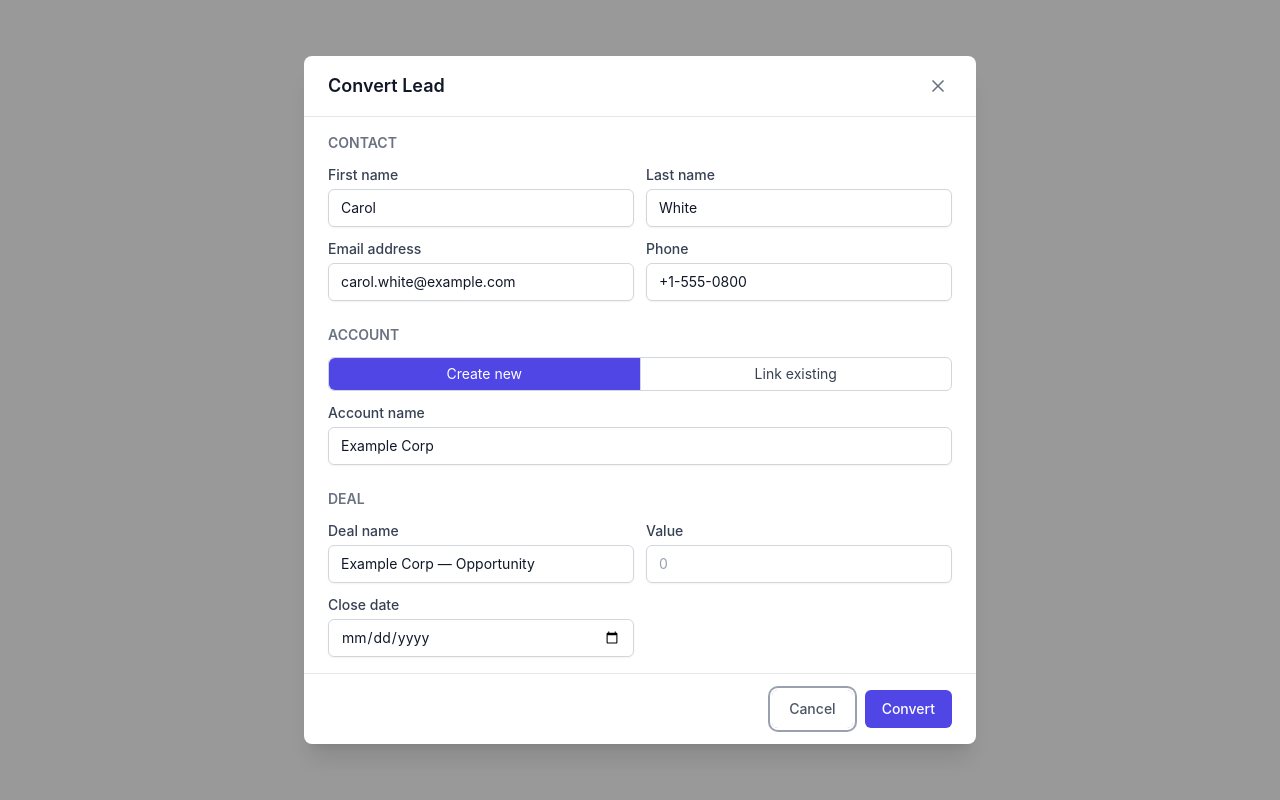
Test: ConvertLeadModal › account mode toggle › switches back to "Create" mode from Link mode
The width and height of the screenshot is (1280, 800).
Click the button with test id "account-mode-link".
click(795, 374)  # box [640, 358, 951, 390]
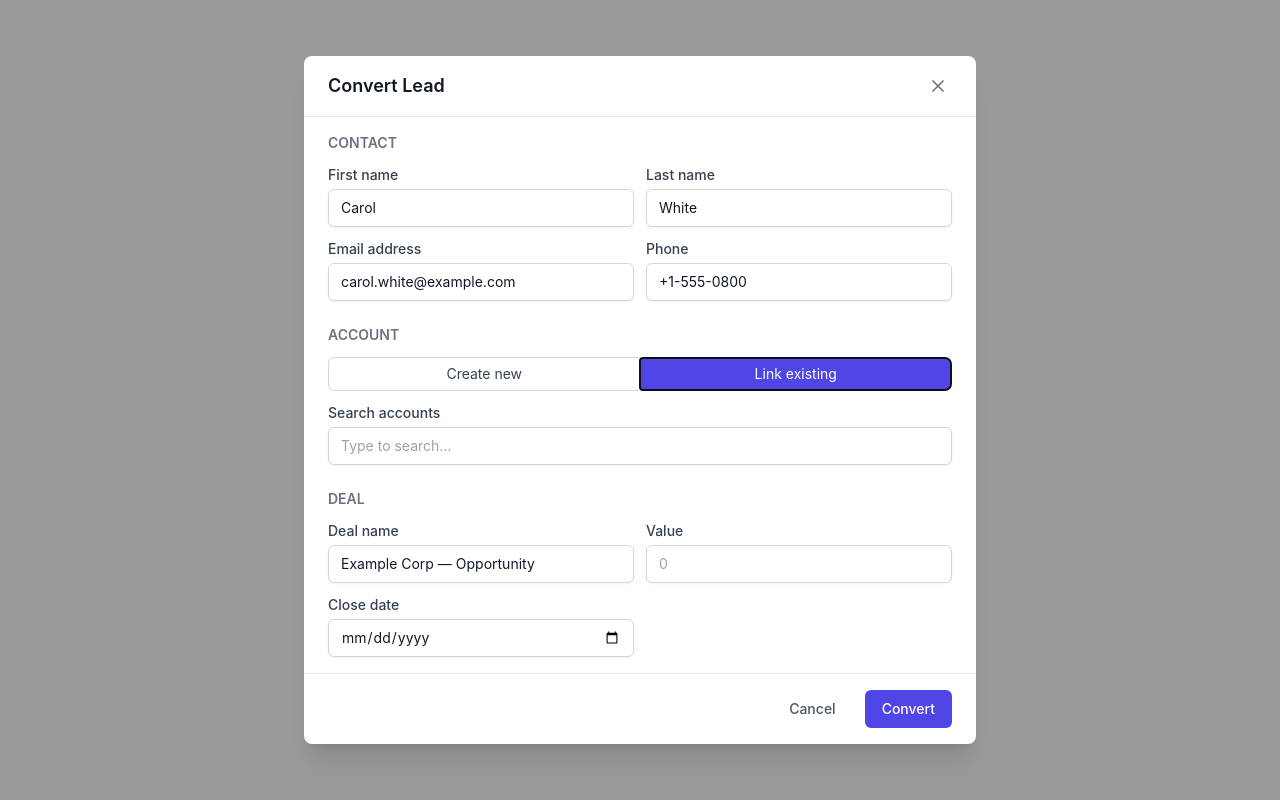
Click the button with test id "account-mode-create".
click(484, 374)  # box [329, 358, 640, 390]
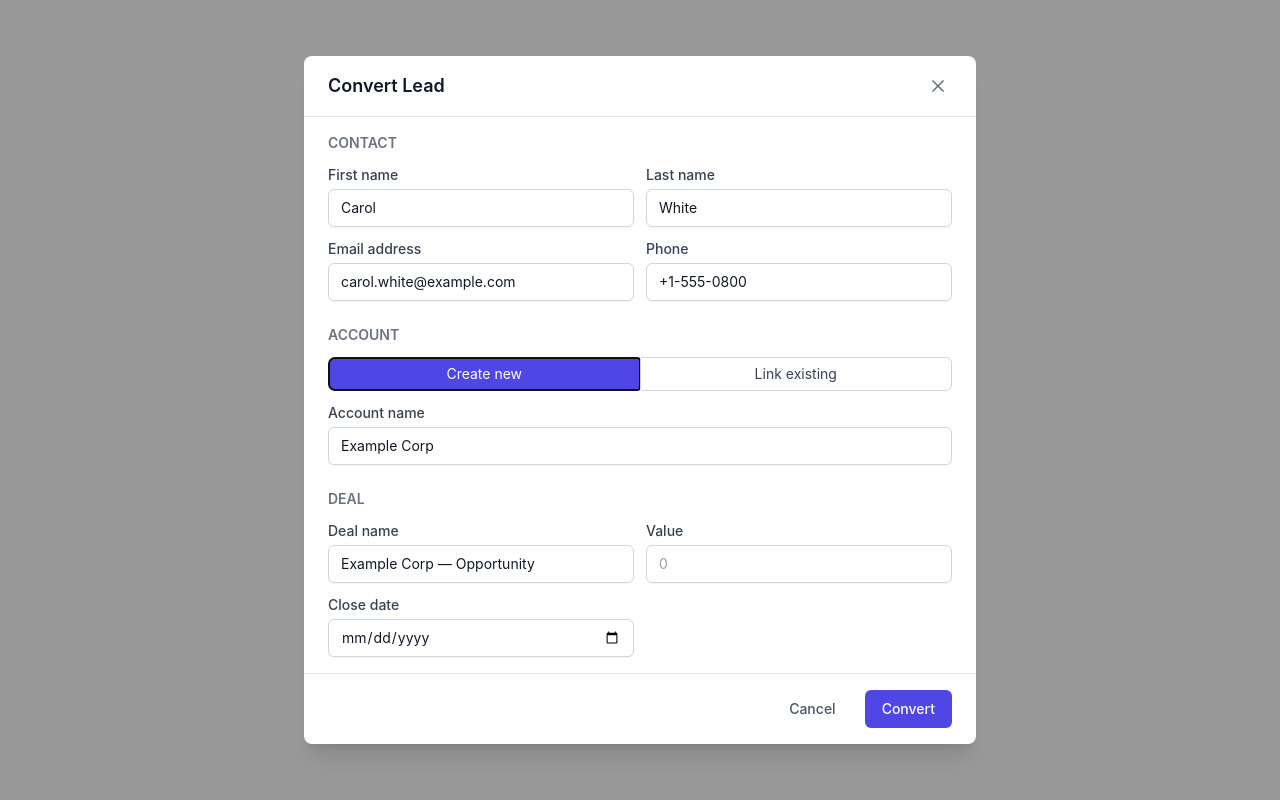
expect the field with test id "convert-account-name" is shown: met, box [328, 427, 952, 465]
expect the label with test id "convert-account-search" is gone: met
